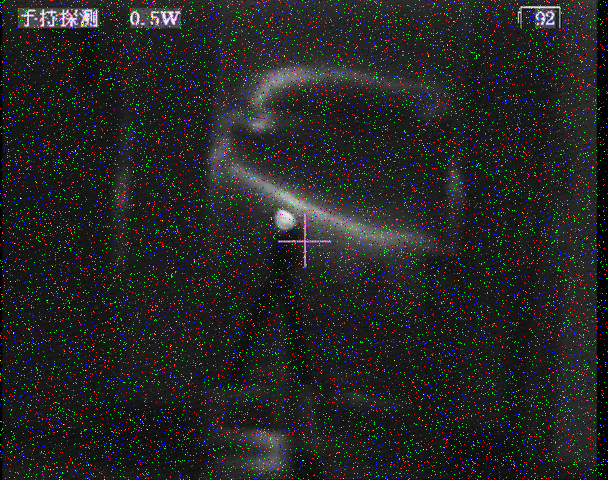my: (272, 207, 297, 231)
